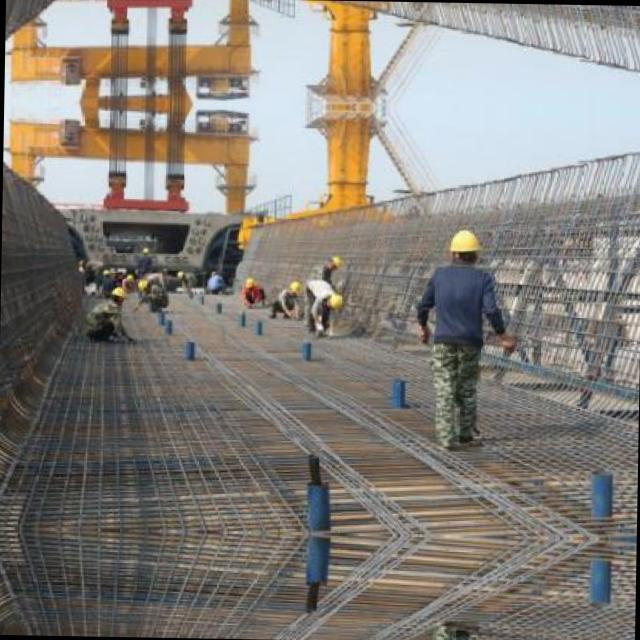helmet: (447, 224, 482, 266), (105, 281, 127, 303), (324, 290, 346, 310), (324, 252, 346, 272), (282, 278, 304, 296), (132, 274, 152, 292), (242, 273, 254, 287)
